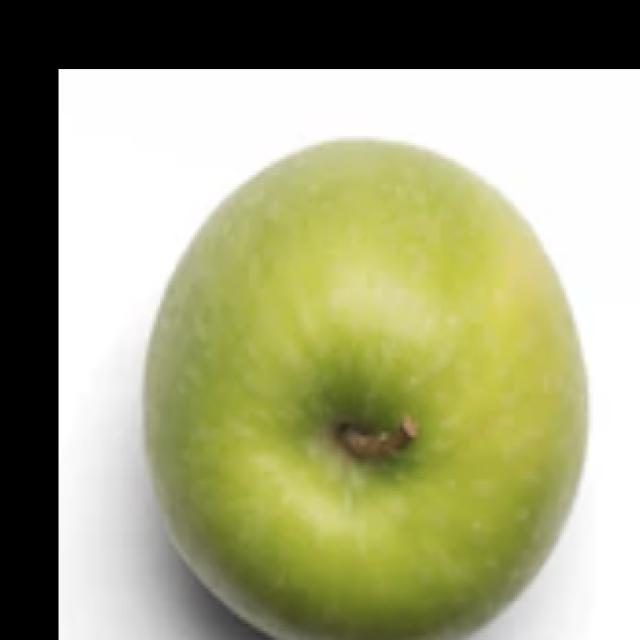Apple: (141, 134, 590, 639)
